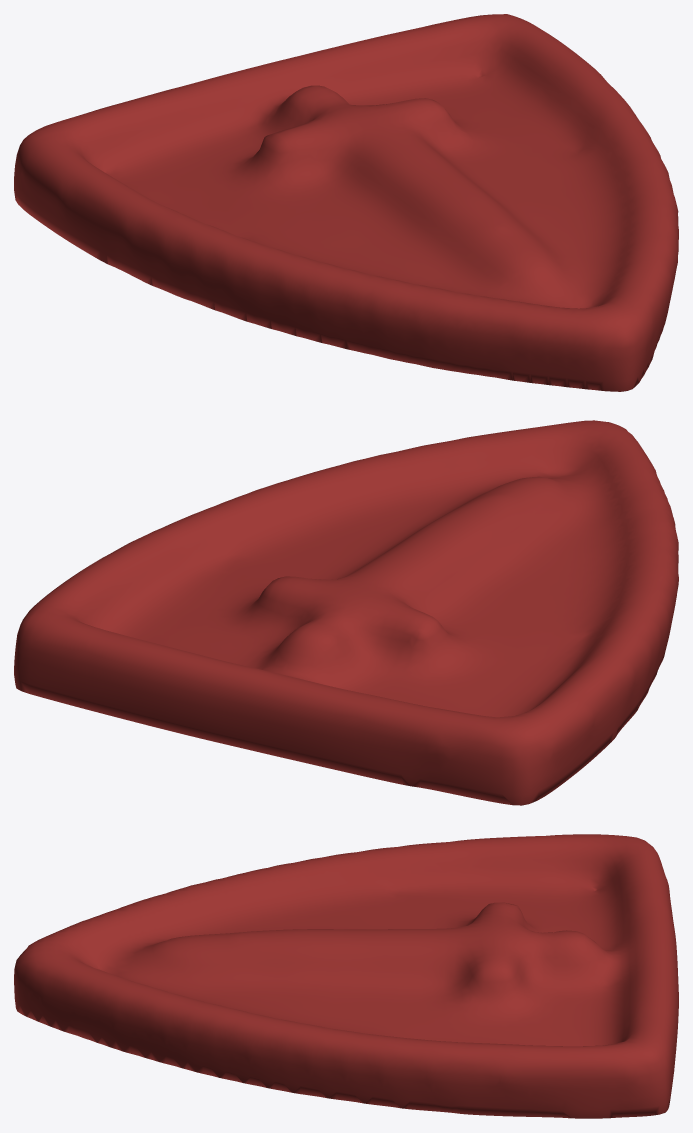
The model's file is decoration-warrior-draco.glb.
3 views of the same model, one above another, from view 1: azimuth 30°, elevation 25°; view 2: azimuth 150°, elevation 25°; view 3: azimuth 270°, elevation 25° (orthographic). The views are drawn at different scales.
Visible parts, largest first — view 1: decoration_warrior; view 2: decoration_warrior; view 3: decoration_warrior.
Part boxes in pixels (x1,y1,x2,y2): decoration_warrior: [14, 14, 678, 391]; decoration_warrior: [14, 420, 678, 805]; decoration_warrior: [14, 834, 678, 1118].
Size of the model in its own units: 0.158 by 0.0244 by 0.1917.
